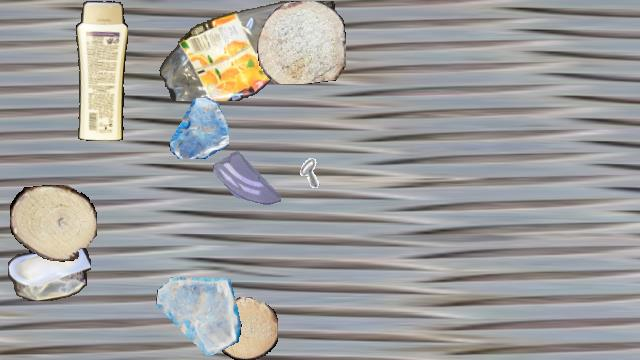glass: (155, 273, 241, 359), (213, 144, 281, 212), (168, 98, 228, 158)
metal: (275, 153, 321, 199)
plastic: (158, 1, 340, 101), (73, 1, 127, 141), (8, 240, 90, 300)
wood: (257, 1, 345, 83), (10, 185, 96, 261), (216, 297, 278, 359)
